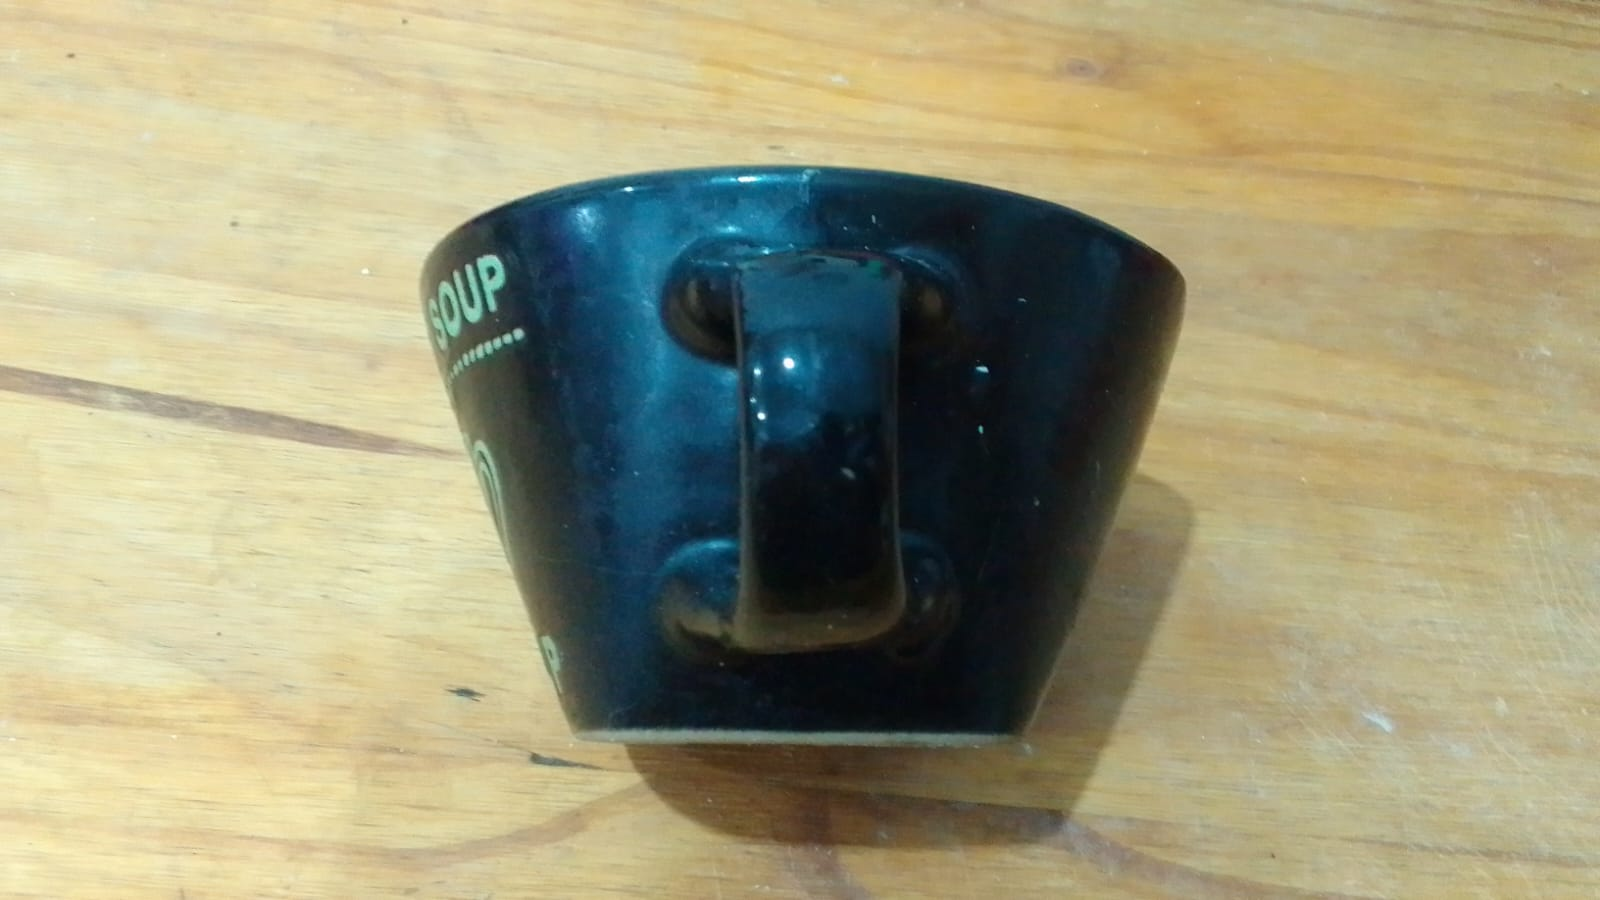dog: (431, 171, 1192, 745)
